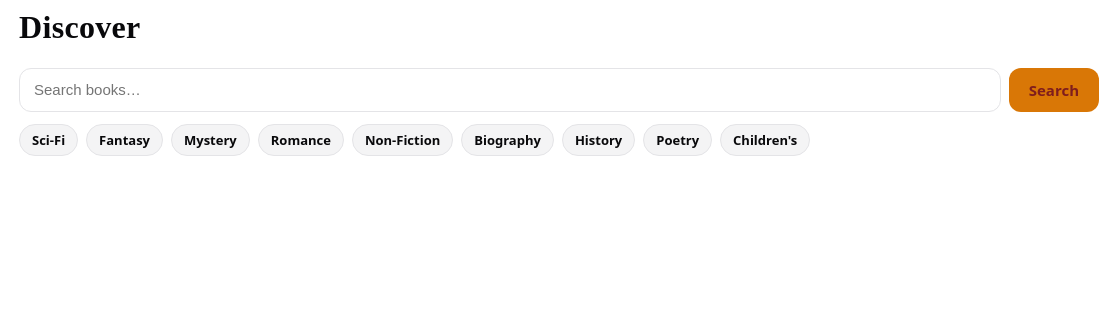
Scenario: Discover › shows an error state when the API fails
Type "quux" into the field with placeholder "Search books…" at (510, 90), box [19,68,1001,112]
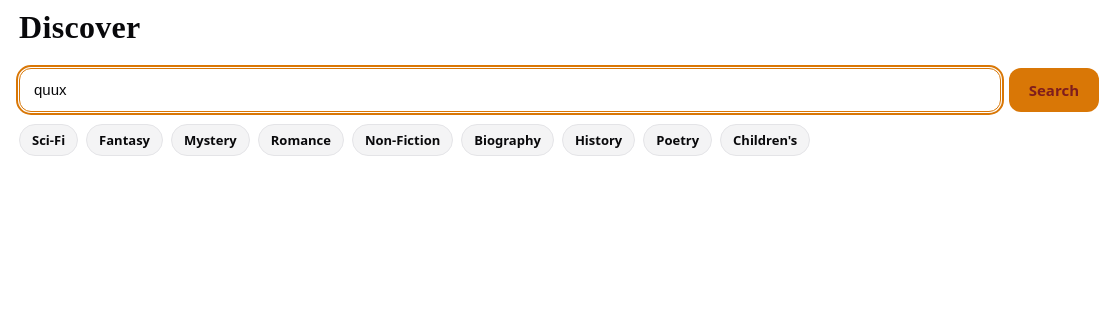
Click the button "Search" at (1054, 90), box [1009,68,1099,112]
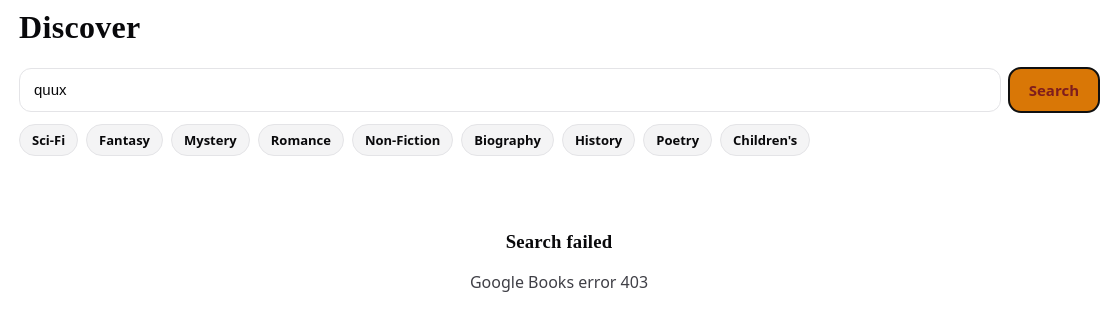
Expected: the heading "Search failed" is shown, [506,231,612,252]
Expected: the text "Google Books error 403" is shown, [470,271,648,293]
